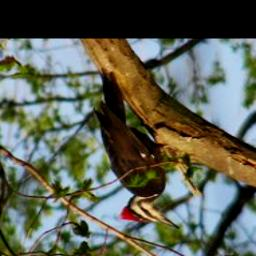Woodpecker: (91, 68, 185, 233)
